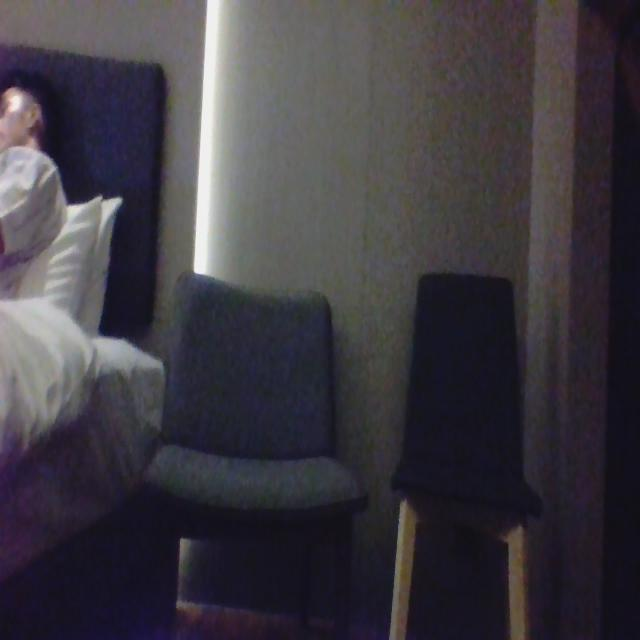empty: (162, 271, 365, 504), (402, 281, 534, 507)
